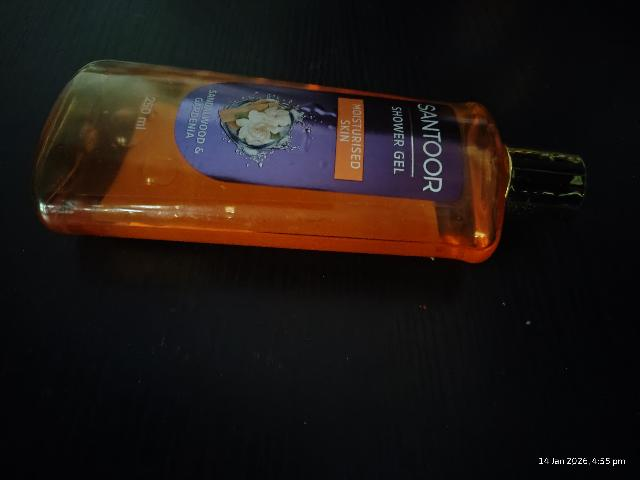santoor bodywash: (38, 45, 588, 271)
